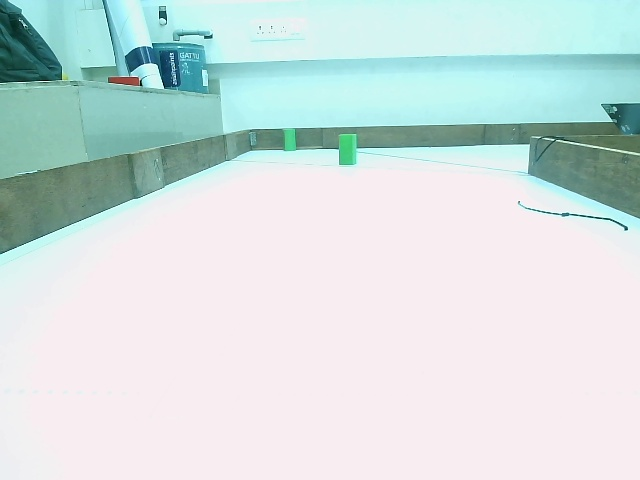green: (340, 133, 358, 165), (286, 129, 297, 152)
